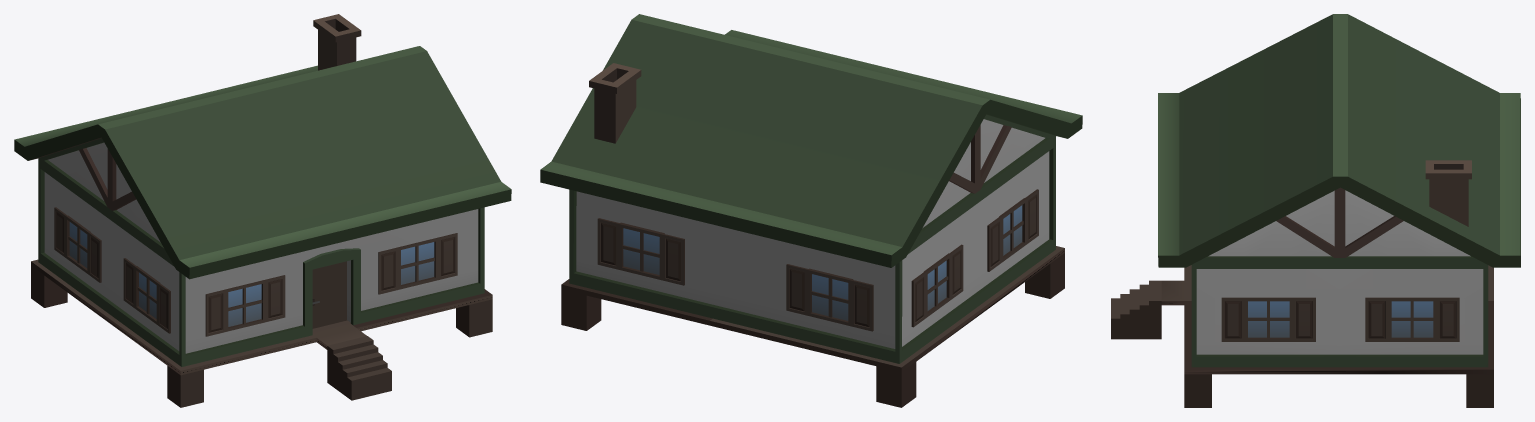
The model's file is buildings-residential-elevatedhouse_v1.glb.
The picture shows the model from 3 angles, left to right: view 1: azimuth 30°, elevation 25°; view 2: azimuth 150°, elevation 25°; view 3: azimuth 270°, elevation 25°; orthographic projection. The views are drawn at different scales.
Visible parts, largest first — view 1: ElevatedHouse_color, ElevatedHouse_base4, ElevatedHouse_windowRefl; view 2: ElevatedHouse_color, ElevatedHouse_base4, ElevatedHouse_windowRefl; view 3: ElevatedHouse_color, ElevatedHouse_base4, ElevatedHouse_windowRefl.
Part boxes in pixels (x1,y1,x2,y2): ElevatedHouse_color: [14, 46, 511, 366]; ElevatedHouse_base4: [31, 14, 492, 407]; ElevatedHouse_windowRefl: [69, 222, 434, 326]; ElevatedHouse_color: [540, 14, 1082, 363]; ElevatedHouse_base4: [561, 63, 1064, 407]; ElevatedHouse_windowRefl: [623, 205, 1022, 320]; ElevatedHouse_color: [1158, 14, 1520, 367]; ElevatedHouse_base4: [1111, 160, 1493, 407]; ElevatedHouse_windowRefl: [1248, 301, 1433, 337].
Bounding box in the file's own units: 12.81 × 8.61 × 13.64.
